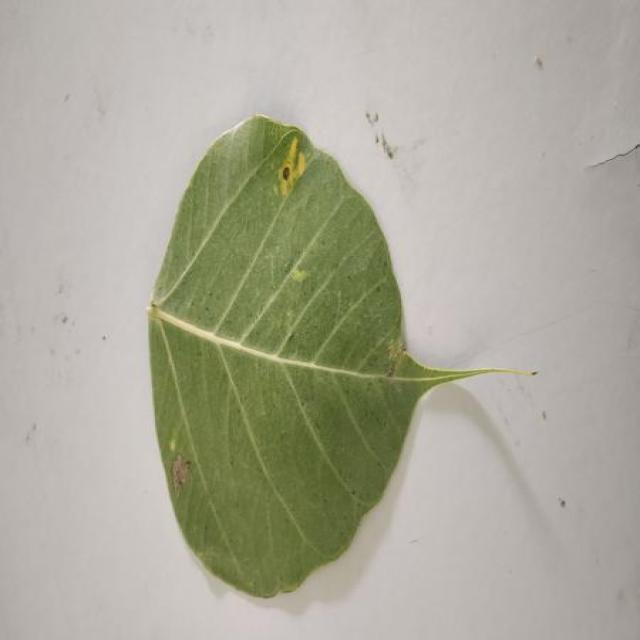arali: (148, 116, 503, 596)
disease in leaf: (275, 131, 313, 199)
